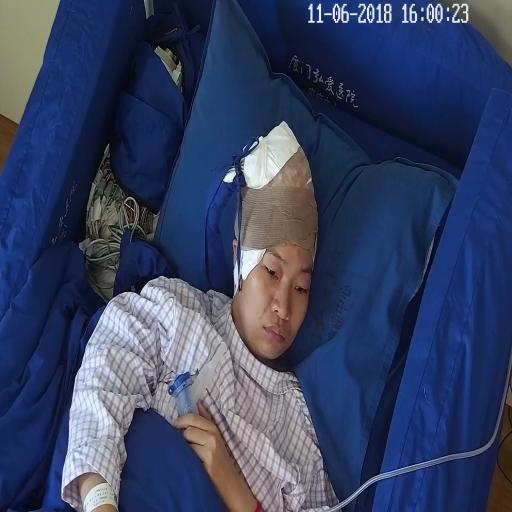Seizure: (220, 127, 321, 361), (216, 226, 311, 386)
